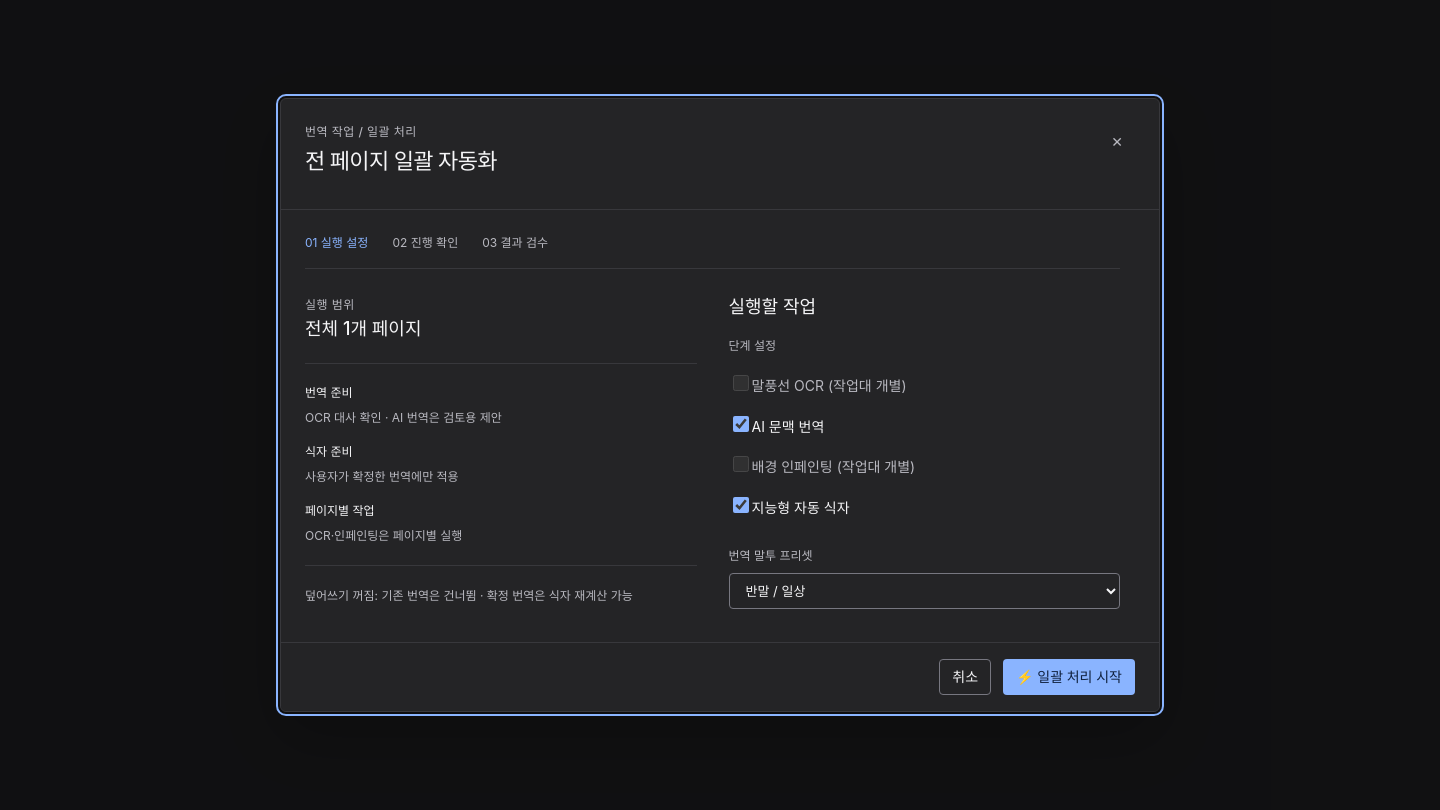
Test case: BatchAutomationModal › awaits final adoption (adopted) and ignores progress after the run response
Step 1. Click the button "⚡ 일괄 처리 시작" → (1069, 677), box [1003,659,1135,695]
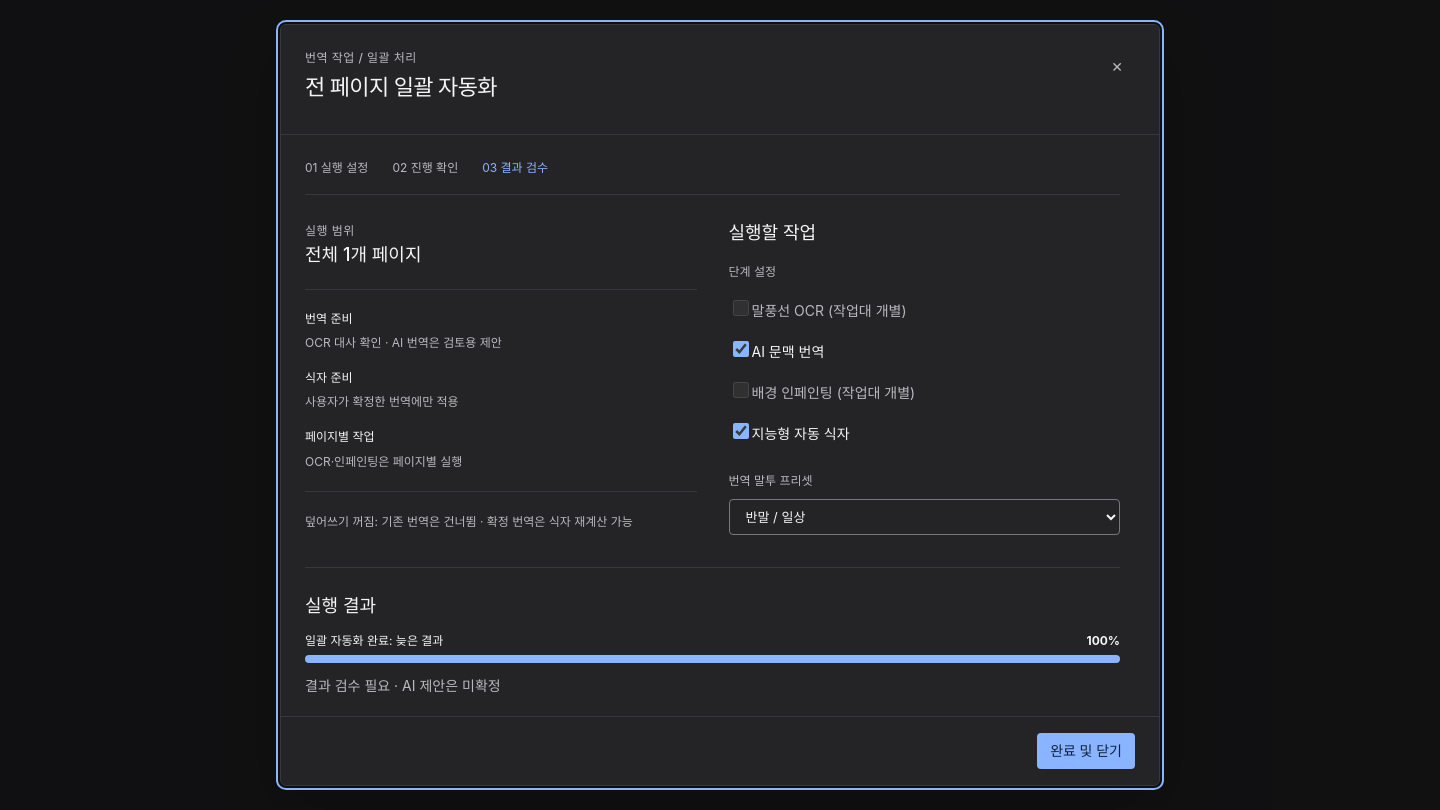
Check: the button "완료 및 닫기" is shown, box [1037,733,1135,769]
